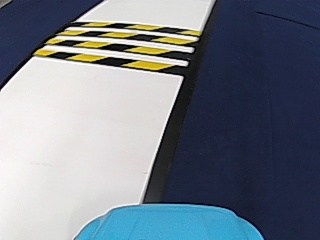bump: (60, 20, 191, 80)
